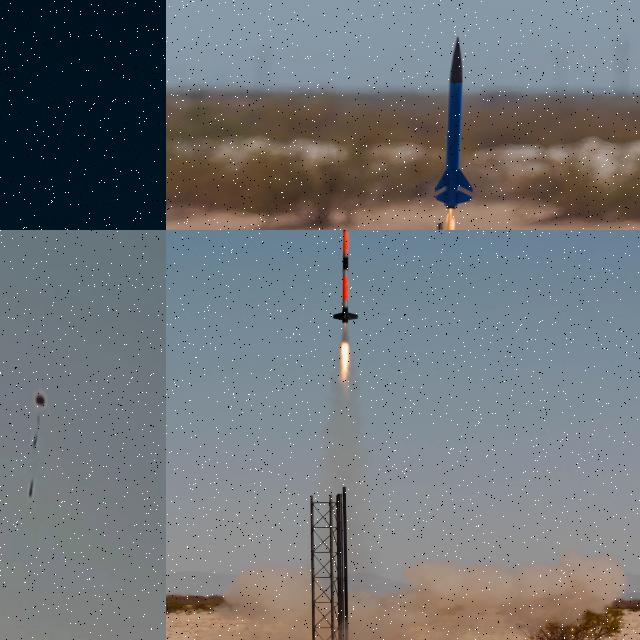Rocket: (432, 36, 478, 210), (333, 230, 358, 323), (29, 479, 34, 498)
